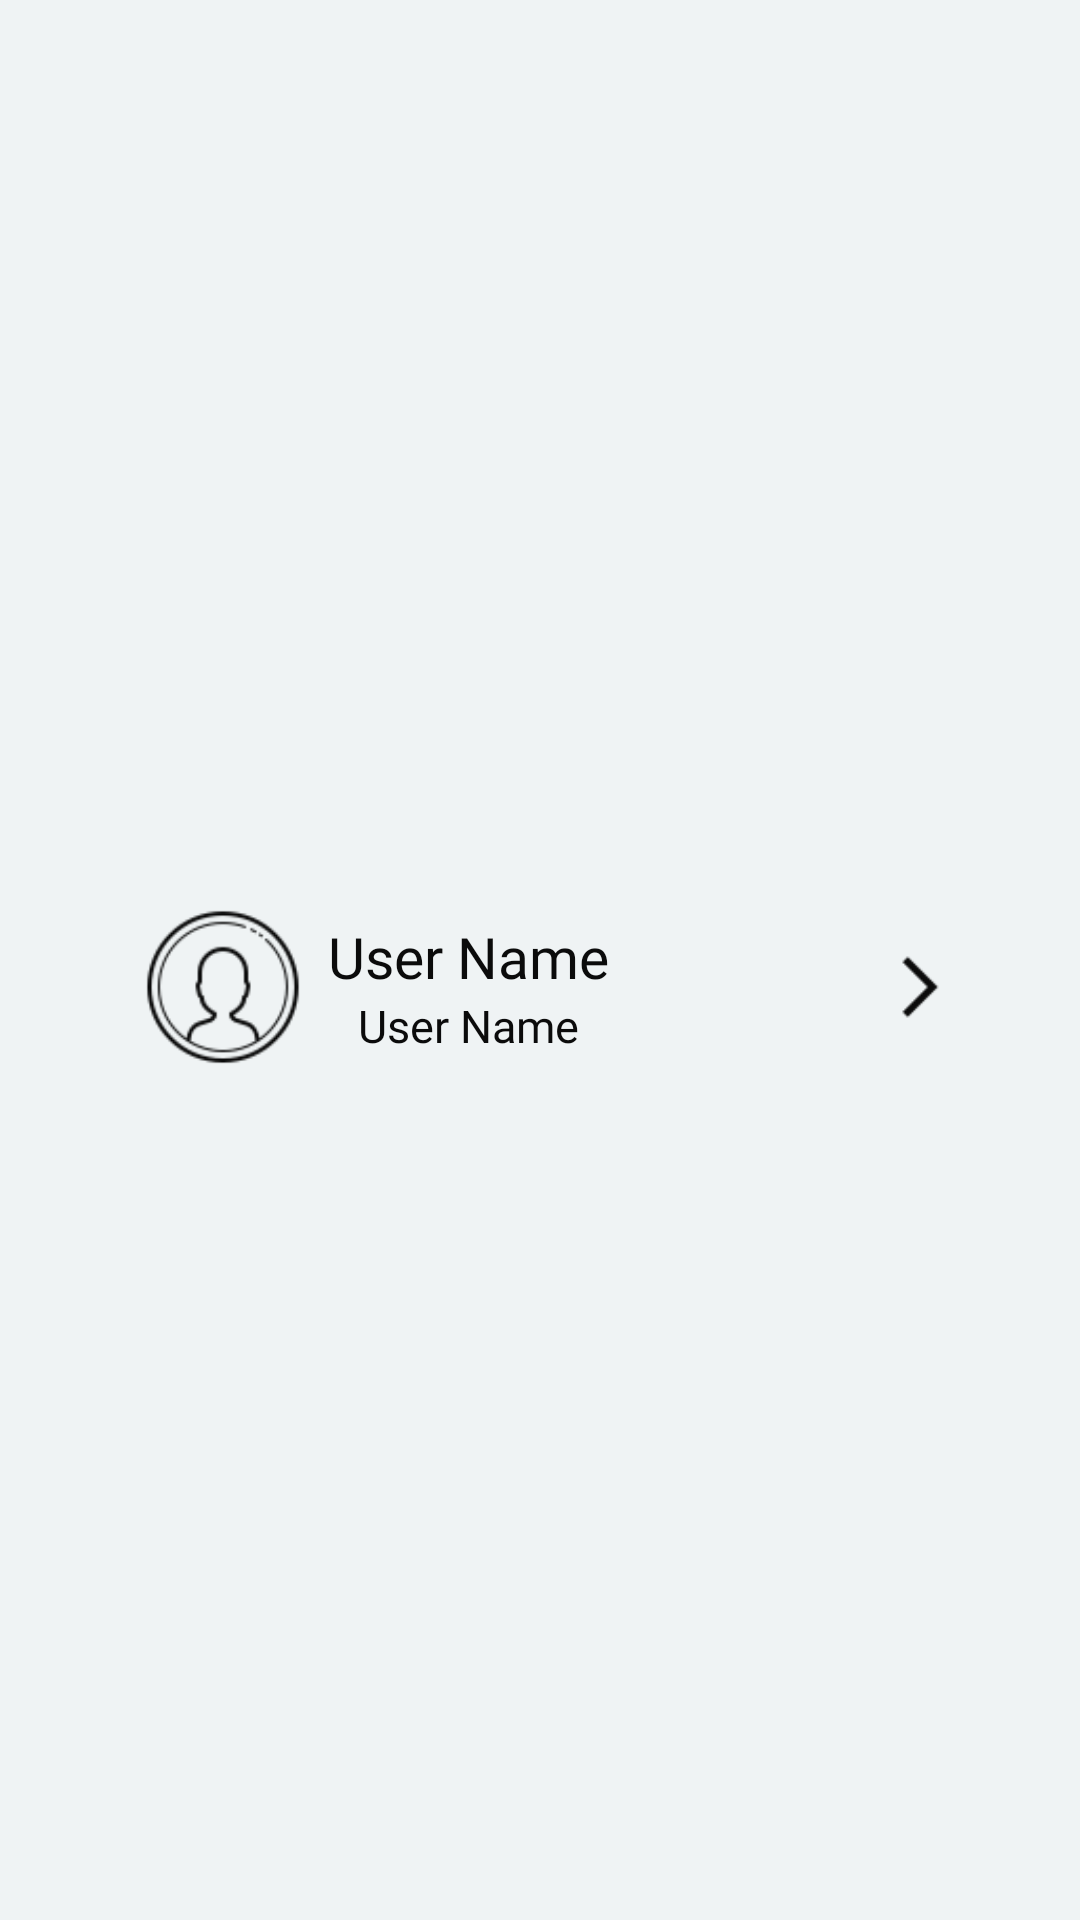

Where to tap for icons on this 1080 × 1920 app screen, as point (x, y):
next page: point (920, 987)
profile: point (223, 987)
